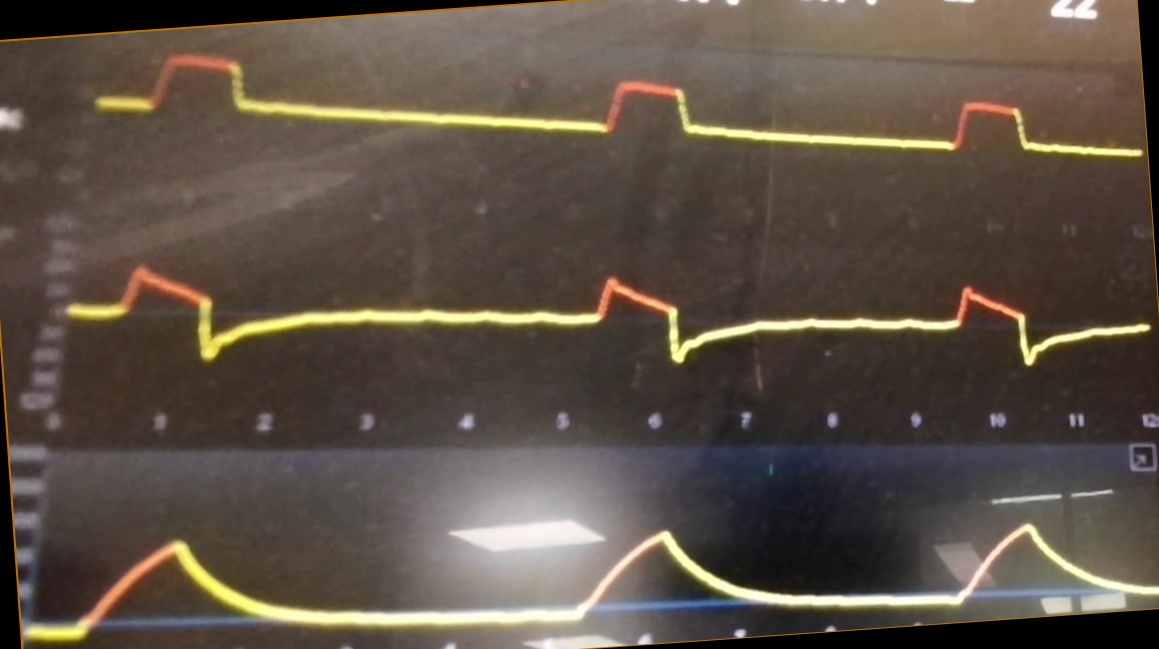Normal Flow: (66, 242, 1154, 374)
Normal Volume: (30, 513, 1159, 648)
